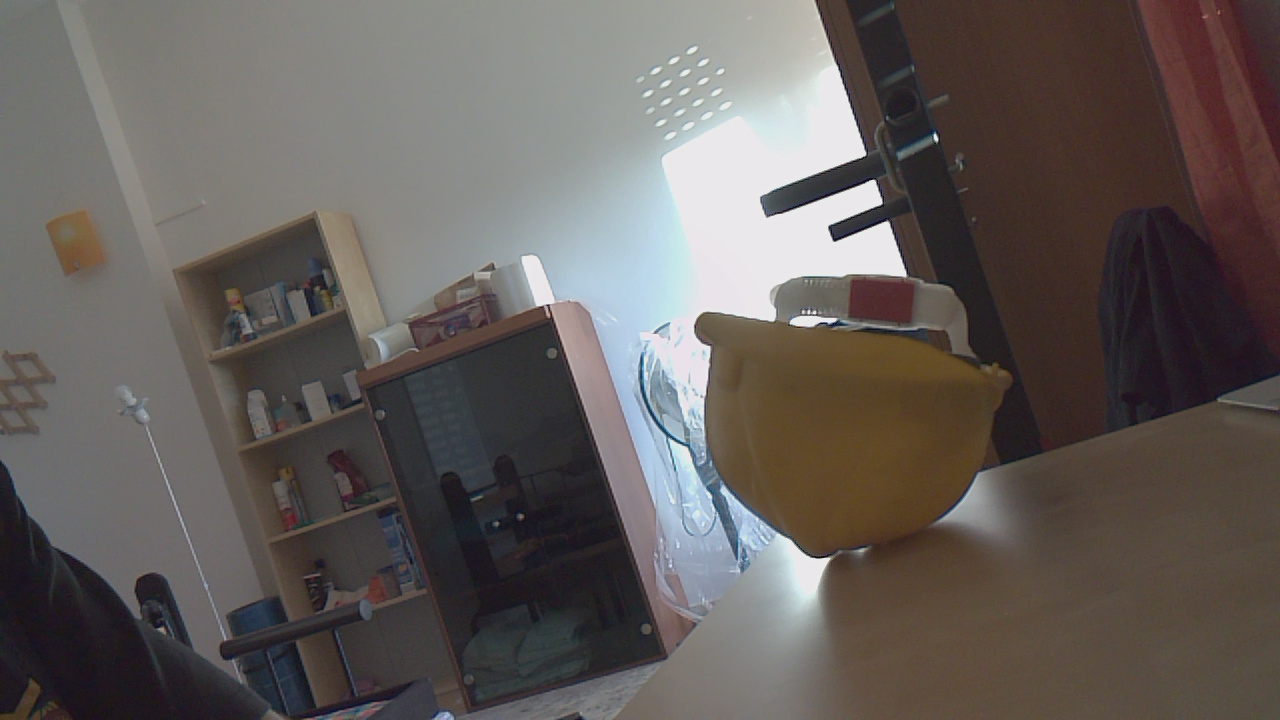Helmet: (674, 215, 1122, 590)
